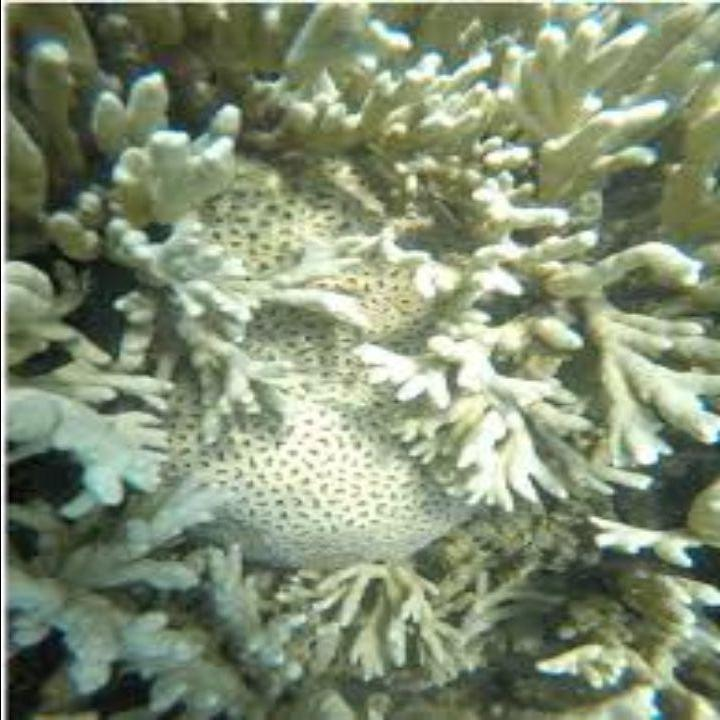Bleached-disease: (4, 104, 260, 517)
